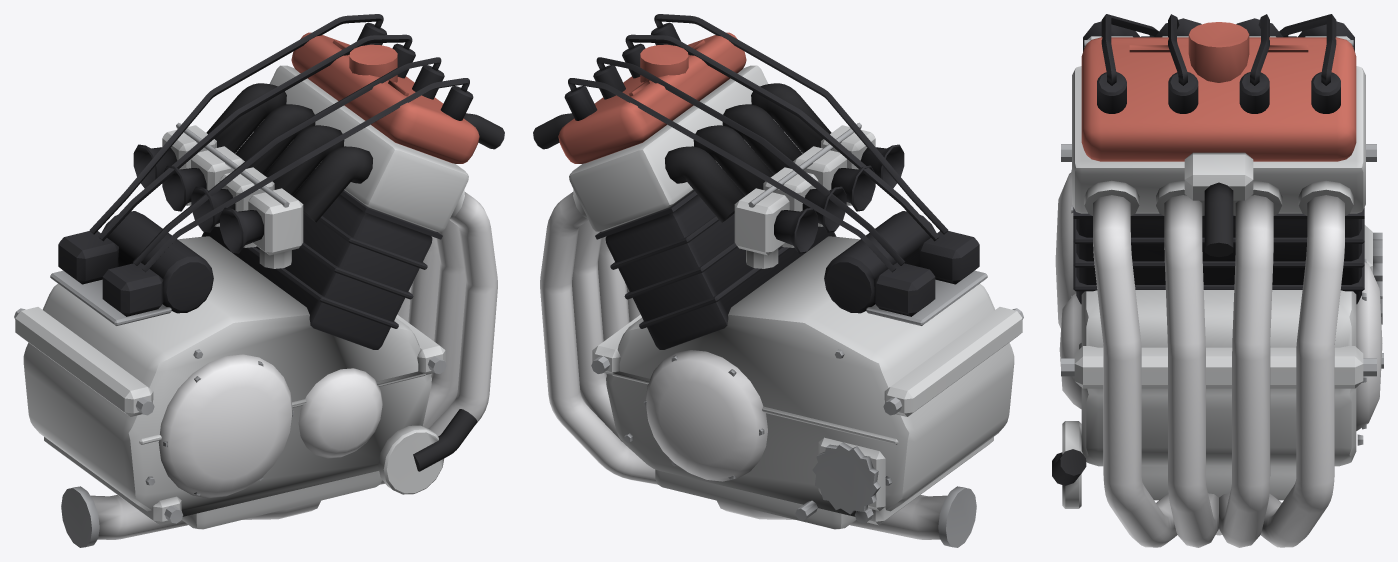
The model's file is eng_moto4.glb.
3 renders of one model, left to right at view 1: azimuth 30°, elevation 25°; view 2: azimuth 150°, elevation 25°; view 3: azimuth 270°, elevation 25°, orthographic. The views are drawn at different scales.
Parts seen in each view (by area): view 1: PART; view 2: PART; view 3: PART.
Part boxes in pixels (x1=…): PART: x1=14, y1=14, x2=504, y2=547; PART: x1=533, y1=14, x2=1023, y2=547; PART: x1=1052, y1=14, x2=1383, y2=547.
Bounding box in the file's own units: 0.4518 × 0.4374 × 0.2415.
